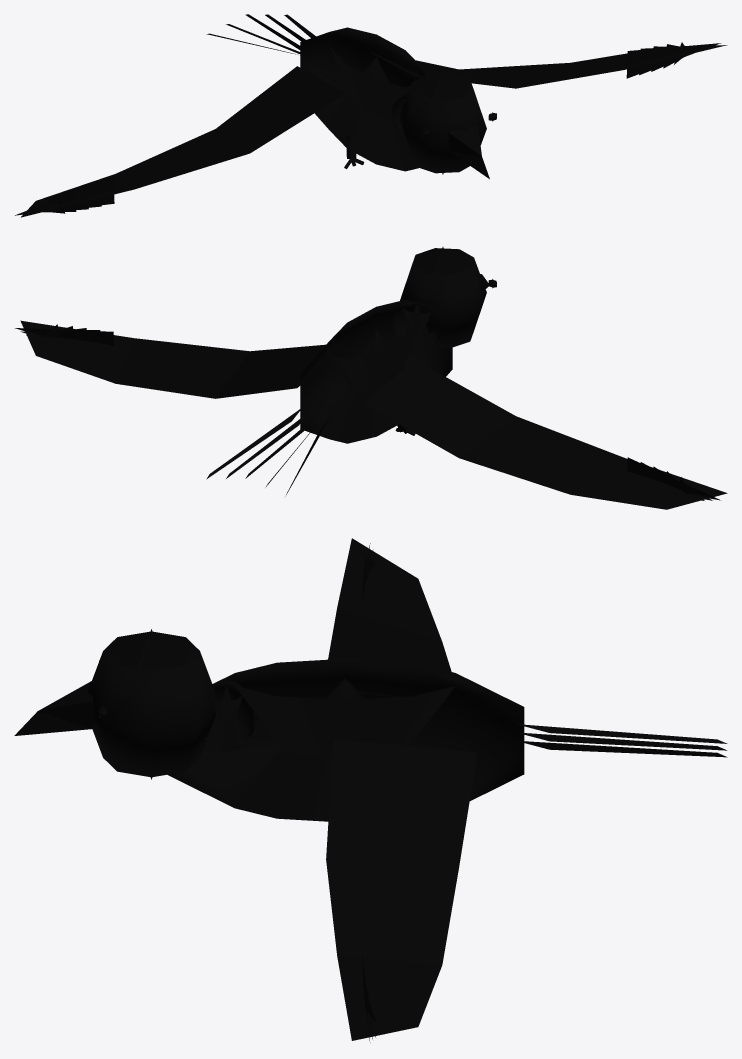
Rendered from gliding_00.glb.
3 views of the same model, one above another, from view 1: azimuth 30°, elevation 25°; view 2: azimuth 150°, elevation 25°; view 3: azimuth 270°, elevation 25° (orthographic). The views are drawn at different scales.
Parts seen in each view (by area): view 1: RaptorBody; view 2: RaptorBody; view 3: RaptorBody.
Part boxes in pixels (left/top/right/bottom): RaptorBody: left=15, top=14, right=727, bottom=217; RaptorBody: left=15, top=247, right=727, bottom=509; RaptorBody: left=14, top=538, right=727, bottom=1042.
Bounding box in the file's own units: 2.71 × 0.5046 × 1.62.
7 materials, 7 textured.
